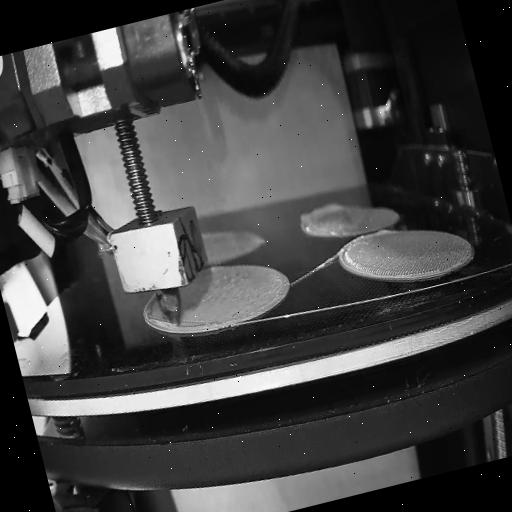over_extrusion: (298, 196, 350, 230), (146, 310, 170, 330), (373, 226, 393, 240)
